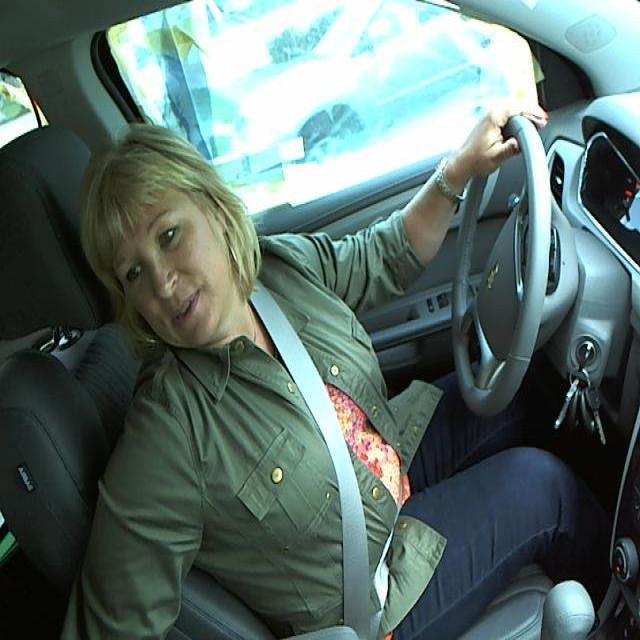seatbelt: (259, 326, 406, 626)
